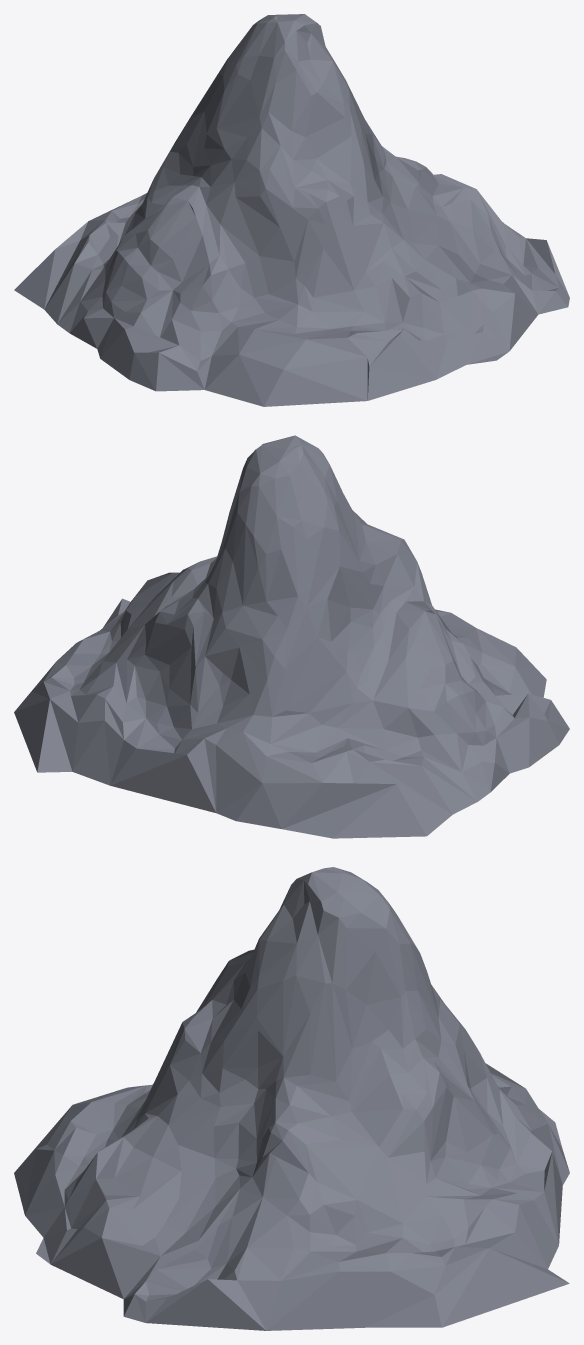
File: Mountain_03.fbx
3 renders of one model, top to bottom at view 1: azimuth 30°, elevation 25°; view 2: azimuth 150°, elevation 25°; view 3: azimuth 270°, elevation 25°, orthographic. The views are drawn at different scales.
Parts seen in each view (by area): view 1: Mountain_03; view 2: Mountain_03; view 3: Mountain_03.
Boxes of the visible parts, box(x1,y1,x2,y2) form: Mountain_03: box(14, 14, 569, 406); Mountain_03: box(14, 435, 569, 838); Mountain_03: box(14, 867, 569, 1330).
Bounding box in the file's own units: 3454 × 2133 × 3250.
1 material, 1 textured.
